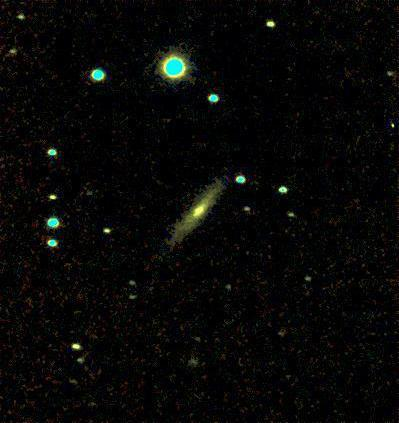star: (375, 111, 399, 141)
